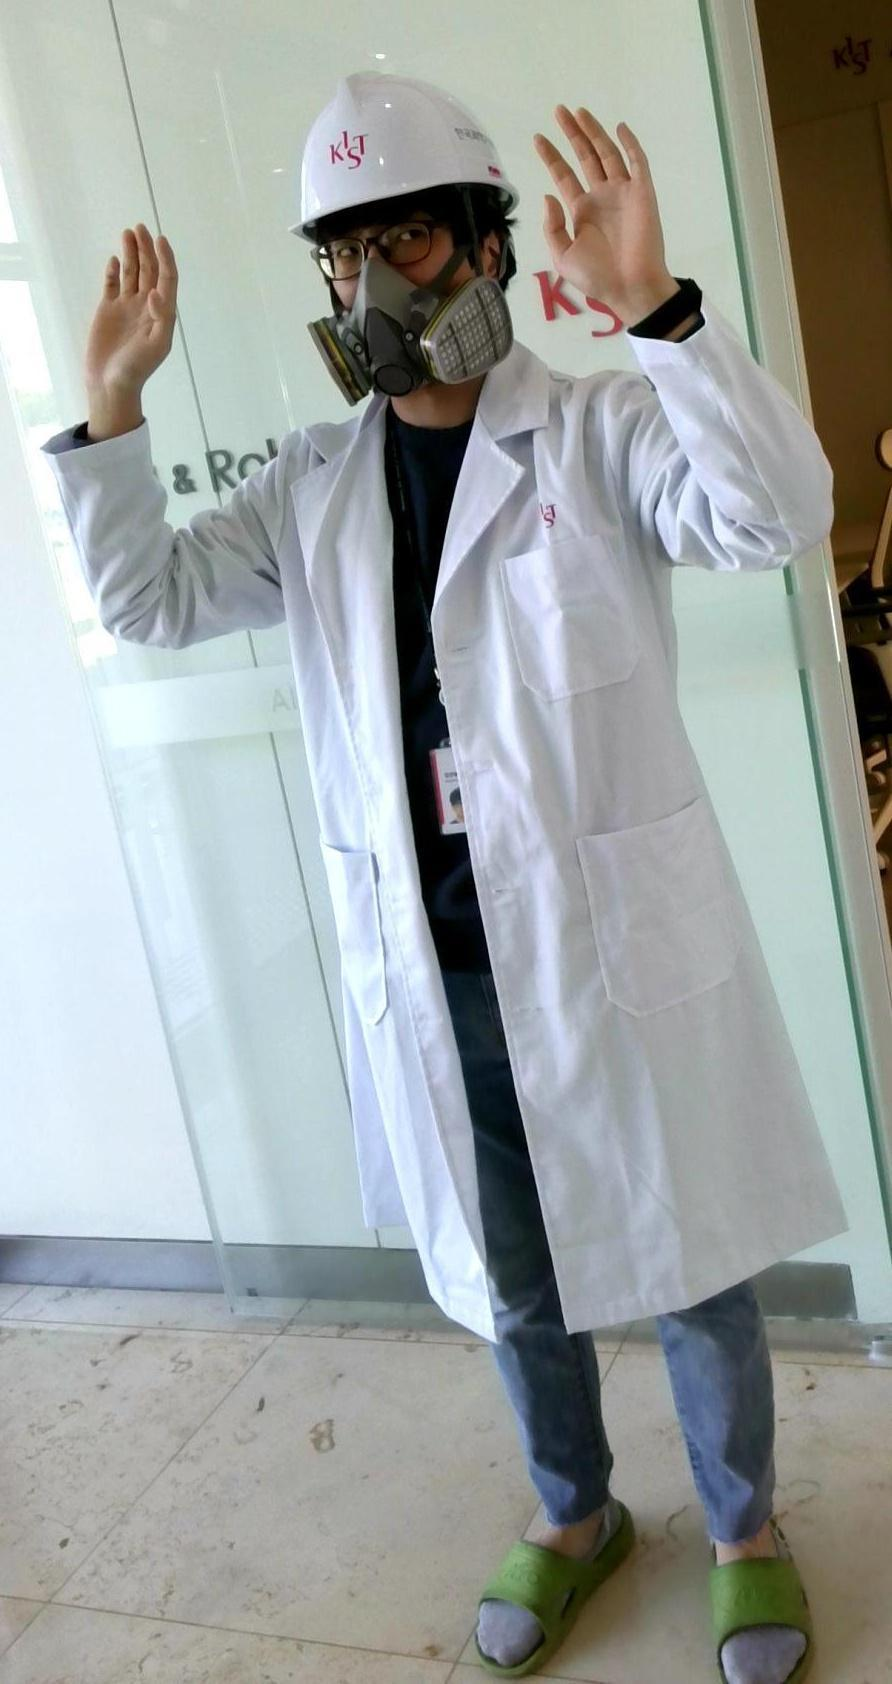lab_coat: (251, 437, 830, 1273)
